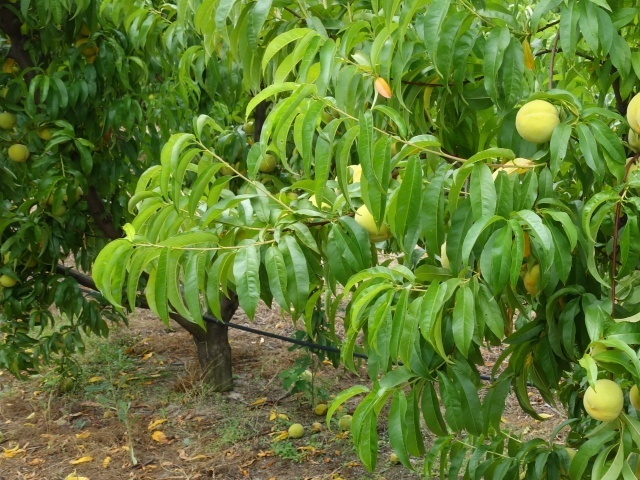peach: (512, 98, 566, 145), (575, 376, 627, 424), (349, 200, 397, 248), (518, 262, 547, 301), (254, 151, 282, 178), (4, 141, 31, 165), (1, 109, 19, 132), (1, 269, 18, 292)
